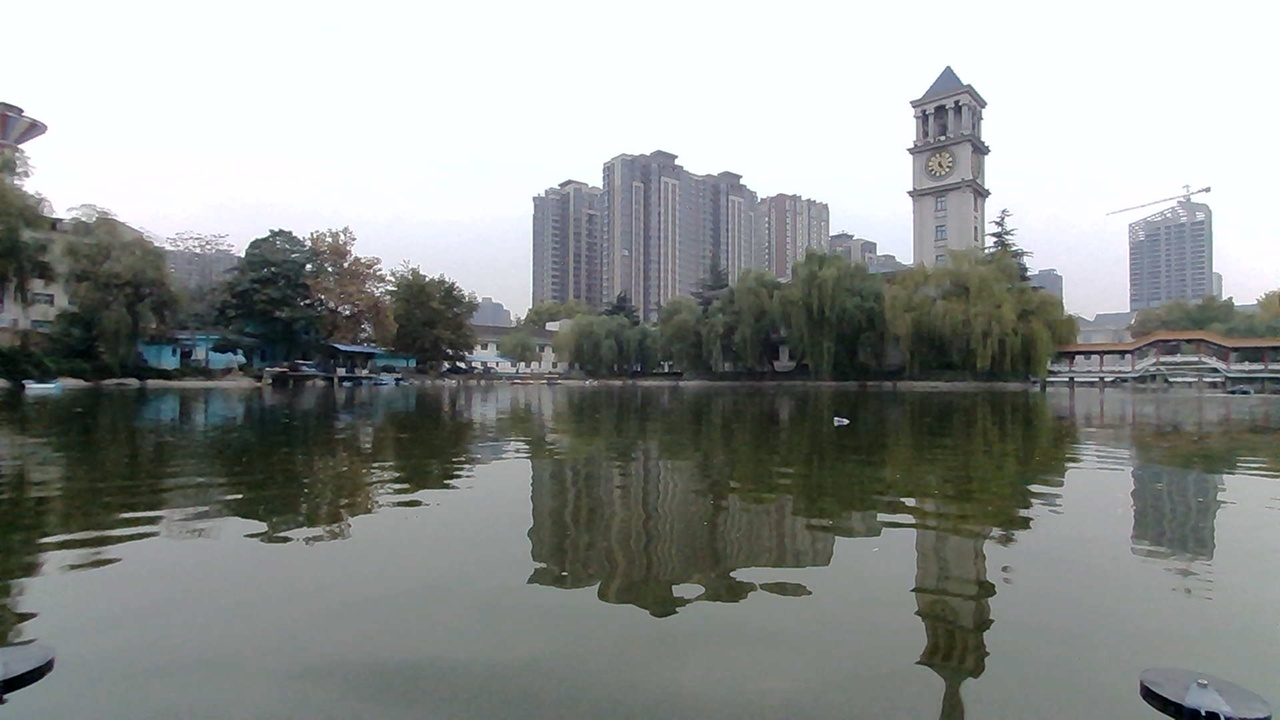bottle: (829, 403, 868, 433)
